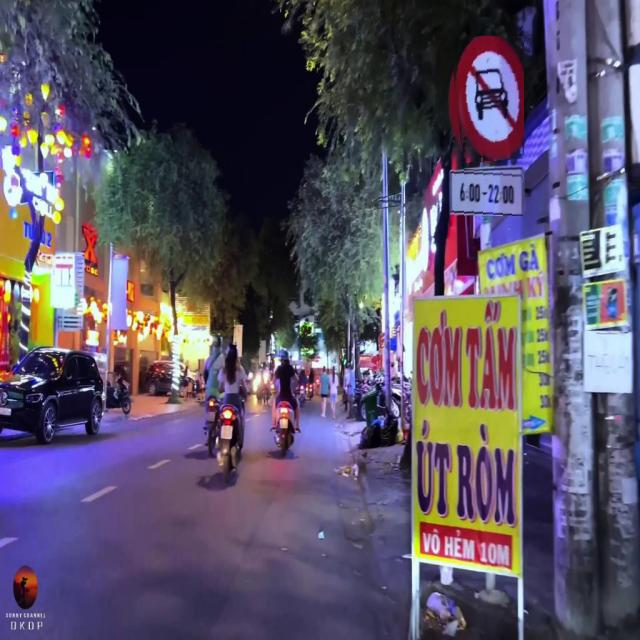cam_o_to: (449, 36, 524, 163)
khac: (449, 167, 524, 216)
